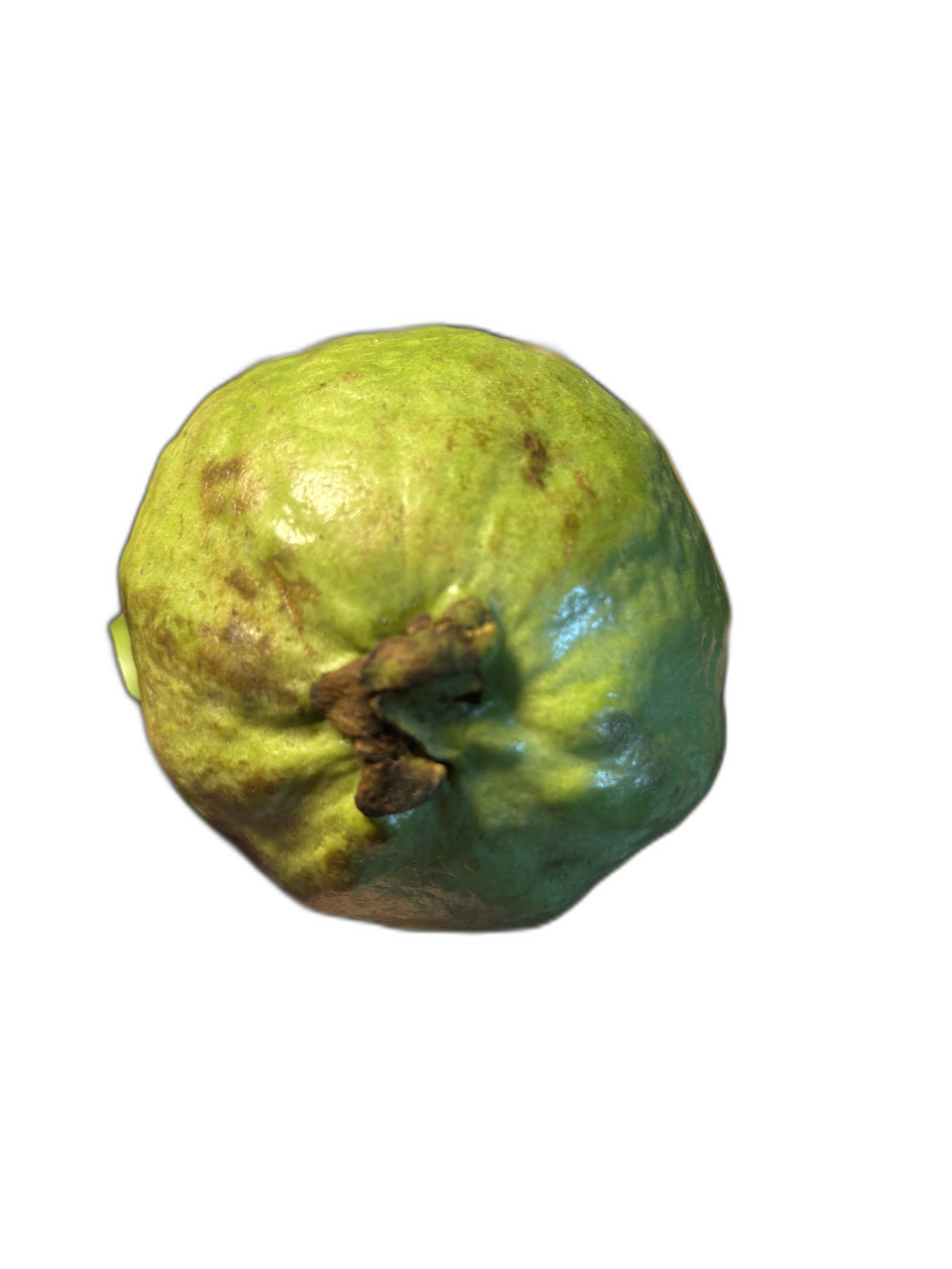guava: (172, 112, 860, 1212)
